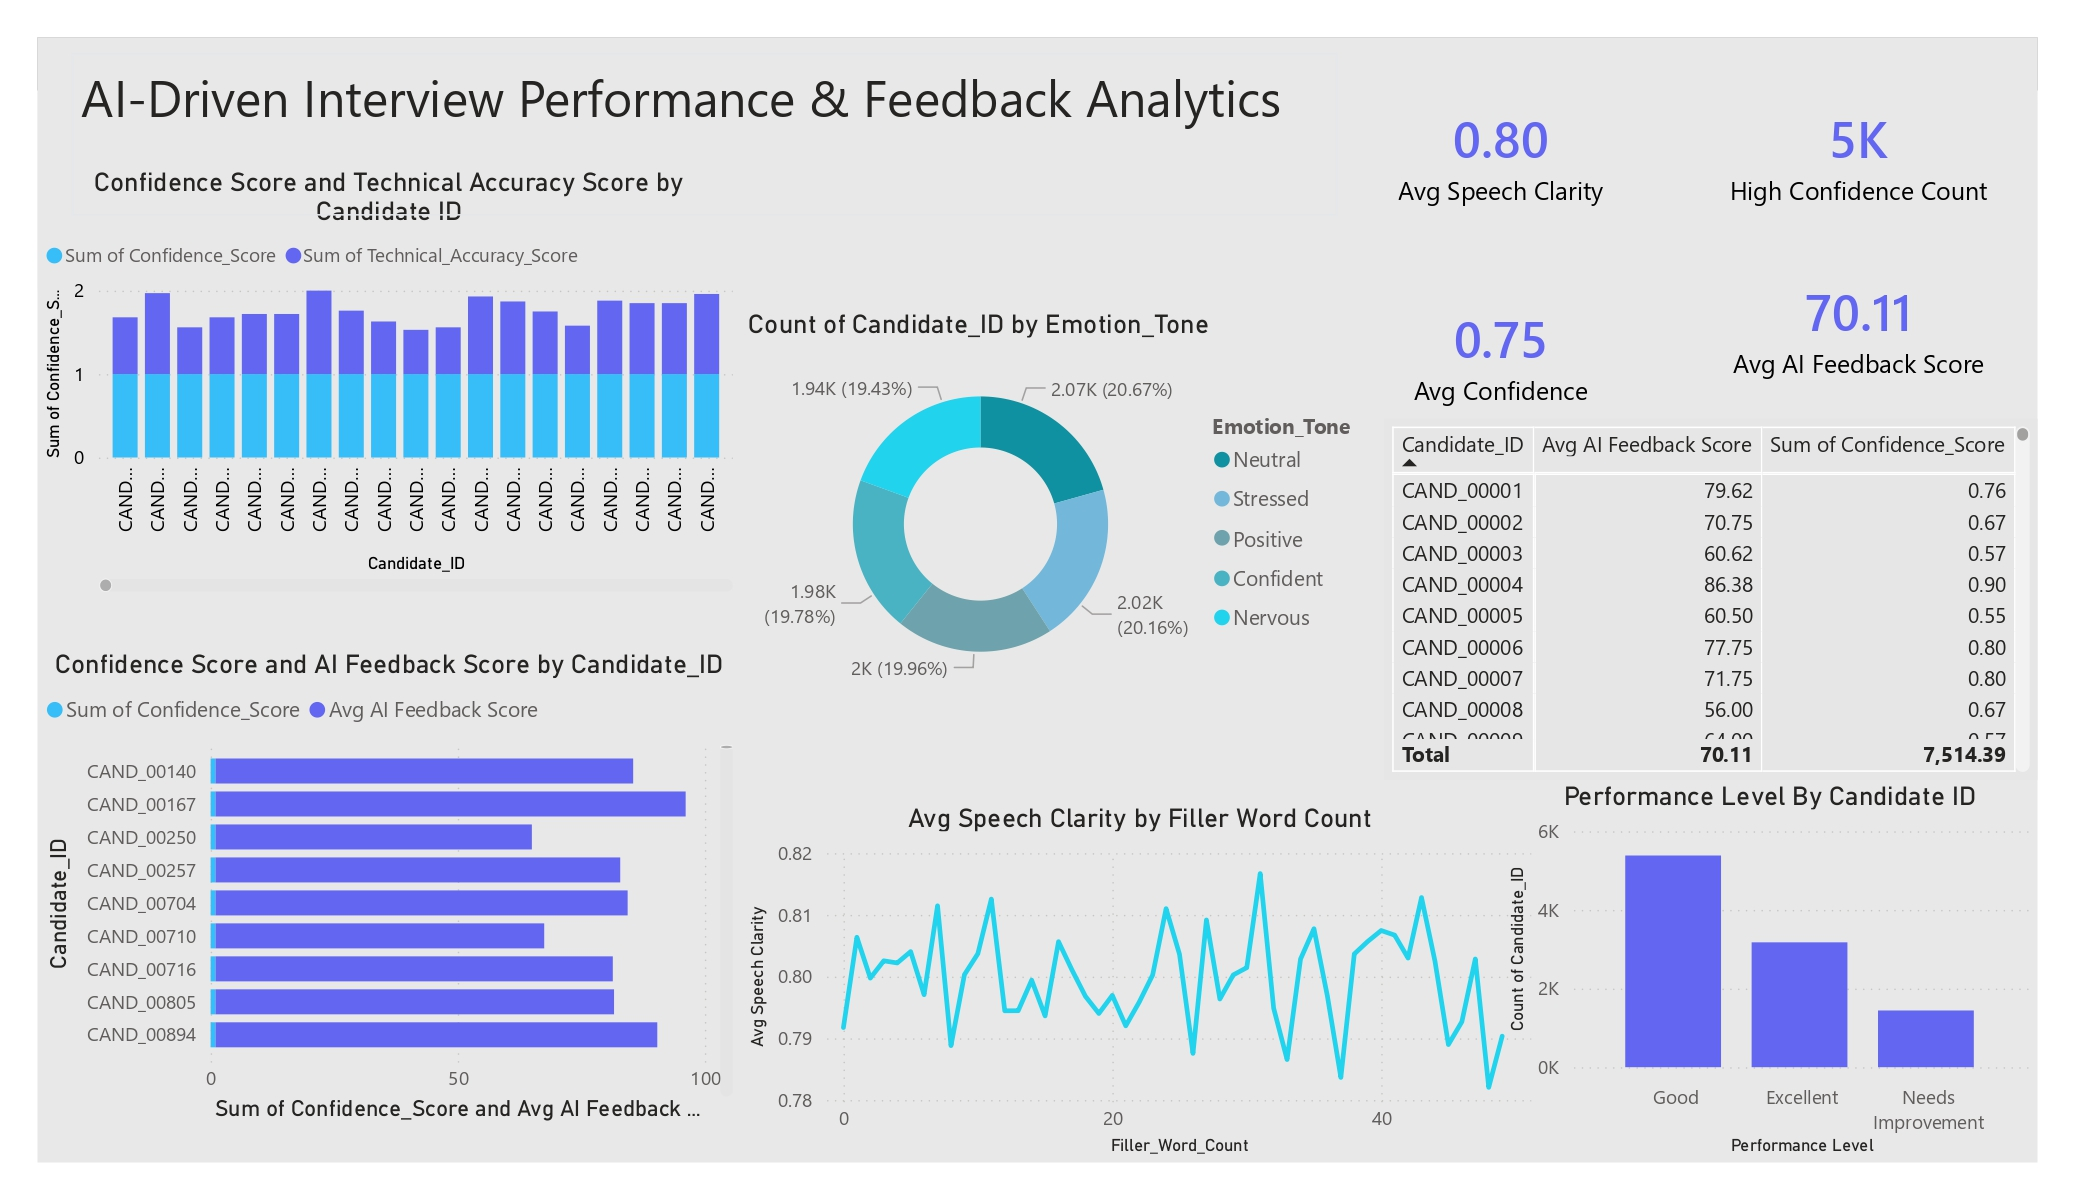

The page's visual inventory and layout, read from the dashboard file:
{"tool":"powerbi","page":{"name":"Page 1","canvas":[1280,720],"ordinal":0},"visuals":[{"type":"cardVisual","fields":{"Data":["Sheet1.Avg AI Feedback Score"]},"box":[1051.1,129,229.2,115.3],"z":0},{"type":"cardVisual","fields":{"Data":["Sheet1.Avg Confidence"]},"box":[822,129,229.2,149.6],"z":1000},{"type":"cardVisual","fields":{"Data":["Sheet1.Avg Speech Clarity"]},"box":[822,0,229.2,150.9],"z":2000},{"type":"cardVisual","fields":{"Data":["Sheet1.High Confidence Count"]},"box":[1051.1,0,229.2,150.9],"z":3000},{"type":"barChart","title":"Confidence Score and AI Feedback Score by Candidate_ID","fields":{"Category":["Sheet1.Candidate_ID"],"Y":["Sum(Sheet1.Confidence_Score)","Sheet1.Avg AI Feedback Score"]},"box":[0,391.1,450.1,329.3],"z":4000},{"type":"lineChart","title":"Avg Speech Clarity by Filler Word Count","fields":{"Category":["Sheet1.Filler_Word_Count"],"Y":["Sheet1.Avg Speech Clarity"]},"box":[450.1,488.5,510.5,231.9],"z":5000},{"type":"clusteredColumnChart","title":"Performance Level By Candidate ID","fields":{"Category":["Sheet1.Performance Level"],"Y":["CountNonNull(Sheet1.Candidate_ID)"]},"box":[937.2,474.8,343.1,245.6],"z":6000},{"type":"pivotTable","fields":{"Rows":["Sheet1.Candidate_ID"],"Values":["Sheet1.Avg AI Feedback Score","Sum(Sheet1.Confidence_Score)"]},"box":[861.8,244.3,418.5,230.5],"z":7000},{"type":"columnChart","title":"Confidence Score and Technical Accuracy Score by Candidate ID","fields":{"Category":["Sheet1.Candidate_ID"],"Y":["Sum(Sheet1.Confidence_Score)","Sum(Sheet1.Technical_Accuracy_Score)"]},"box":[0,82.3,450.1,277.2],"z":8000},{"type":"donutChart","fields":{"Category":["Sheet1.Emotion_Tone"],"Y":["CountNonNull(Sheet1.Candidate_ID)"]},"box":[450.1,172.9,411.7,258],"z":9000},{"type":"textbox","box":[22,9.6,809.6,104.3],"z":10000}]}

Visuals, with their boxes on the page's 1280x720 design canvas (x1, y1, x2, y2). These are canvas units, not pixel positions in the 2075x1200 screenshot, which may show the page scaled, cropped or inside an application window:
cardVisual - Sheet1.Avg AI Feedback Score: <bbox>1051, 129, 1280, 244</bbox>
cardVisual - Sheet1.Avg Confidence: <bbox>822, 129, 1051, 279</bbox>
cardVisual - Sheet1.Avg Speech Clarity: <bbox>822, 0, 1051, 151</bbox>
cardVisual - Sheet1.High Confidence Count: <bbox>1051, 0, 1280, 151</bbox>
"Confidence Score and AI Feedback Score by Candidate_ID" barChart: <bbox>0, 391, 450, 720</bbox>
"Avg Speech Clarity by Filler Word Count" lineChart: <bbox>450, 488, 961, 720</bbox>
"Performance Level By Candidate ID" clusteredColumnChart: <bbox>937, 475, 1280, 720</bbox>
pivotTable - Sheet1.Candidate_ID x Sheet1.Avg AI Feedback Score: <bbox>862, 244, 1280, 475</bbox>
"Confidence Score and Technical Accuracy Score by Candidate ID" columnChart: <bbox>0, 82, 450, 360</bbox>
donutChart - Sheet1.Emotion_Tone x CountNonNull(Sheet1.Candidate_ID): <bbox>450, 173, 862, 431</bbox>
textbox: <bbox>22, 10, 832, 114</bbox>
